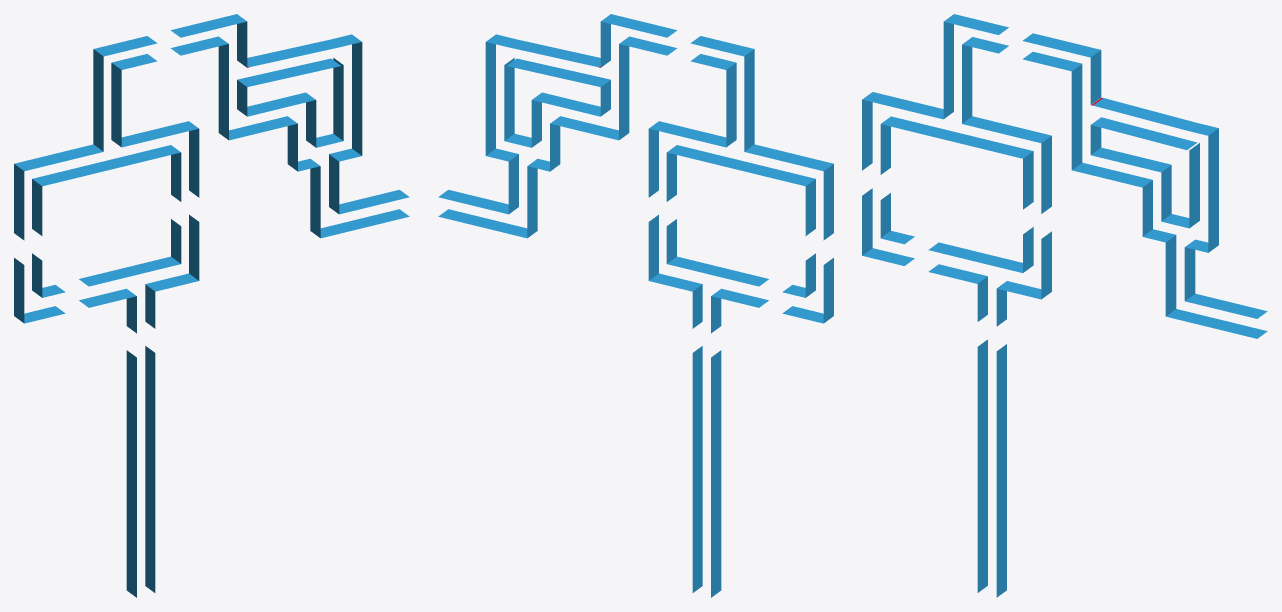
File: boundaries.fbx
The picture shows the model from 3 angles, left to right: view 1: azimuth 30°, elevation 25°; view 2: azimuth 150°, elevation 25°; view 3: azimuth 330°, elevation 25°; orthographic projection. The views are drawn at different scales.
Visible parts, largest first — view 1: LvL01.004, LvL01.005, LvL01.012, LvL01.019, LvL01.038, LvL01.011, LvL01.034, LvL01.023, LvL01.043, LvL01.037, LvL01.029, LvL01.033 (+16 smaller); view 2: LvL01.004, LvL01.005, LvL01.012, LvL01.019, LvL01.038, LvL01.011, LvL01.034, LvL01.023, LvL01.043, LvL01.037, LvL01.029, LvL01.033 (+16 smaller); view 3: LvL01.004, LvL01.005, LvL01.012, LvL01.038, LvL01.019, LvL01.034, LvL01.043, LvL01.011, LvL01.037, LvL01.023, LvL01.017, LvL01.032 (+19 smaller).
Boxes of the visible parts, x1=… form: LvL01.004: x1=126, y1=350, x2=136, y2=597; LvL01.005: x1=145, y1=346, x2=155, y2=592; LvL01.012: x1=32, y1=145, x2=180, y2=186; LvL01.019: x1=352, y1=42, x2=362, y2=155; LvL01.038: x1=247, y1=34, x2=361, y2=67; LvL01.011: x1=93, y1=49, x2=103, y2=151; LvL01.034: x1=218, y1=44, x2=228, y2=139; LvL01.023: x1=79, y1=256, x2=180, y2=286; LvL01.043: x1=237, y1=58, x2=340, y2=86; LvL01.037: x1=320, y1=209, x2=409, y2=238; LvL01.029: x1=14, y1=144, x2=103, y2=171; LvL01.033: x1=111, y1=63, x2=121, y2=146; LvL01.004: x1=711, y1=350, x2=721, y2=597; LvL01.005: x1=692, y1=346, x2=702, y2=592; LvL01.012: x1=667, y1=145, x2=815, y2=186; LvL01.019: x1=485, y1=42, x2=495, y2=155; LvL01.038: x1=486, y1=34, x2=600, y2=67; LvL01.011: x1=744, y1=49, x2=754, y2=151; LvL01.034: x1=619, y1=44, x2=629, y2=139; LvL01.023: x1=667, y1=256, x2=768, y2=286; LvL01.043: x1=507, y1=58, x2=610, y2=86; LvL01.037: x1=438, y1=209, x2=527, y2=238; LvL01.029: x1=744, y1=144, x2=833, y2=171; LvL01.033: x1=726, y1=63, x2=736, y2=146; LvL01.004: x1=977, y1=339, x2=987, y2=592; LvL01.005: x1=996, y1=344, x2=1006, y2=597; LvL01.012: x1=881, y1=116, x2=1032, y2=158; LvL01.038: x1=1091, y1=97, x2=1218, y2=135; LvL01.019: x1=1208, y1=128, x2=1218, y2=252; LvL01.034: x1=1071, y1=64, x2=1082, y2=169; LvL01.043: x1=1091, y1=117, x2=1197, y2=149; LvL01.011: x1=943, y1=22, x2=953, y2=118; LvL01.037: x1=1166, y1=309, x2=1267, y2=338; LvL01.023: x1=928, y1=242, x2=1022, y2=272; LvL01.017: x1=1165, y1=235, x2=1176, y2=316; LvL01.032: x1=962, y1=116, x2=1051, y2=143.
Size of the model in its own units: 1678 by 2286 by 77.66.
